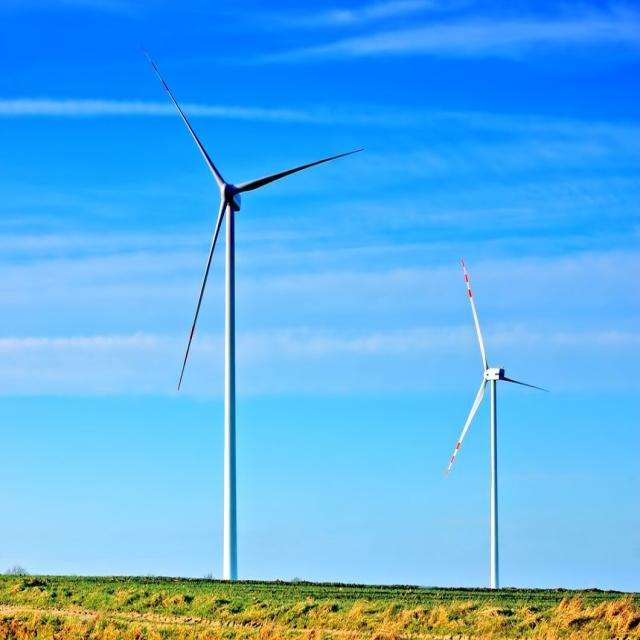solid-blade: (142, 47, 222, 185), (178, 196, 226, 389), (236, 150, 364, 192)
wind-turbine: (142, 45, 364, 579), (445, 260, 545, 586)
